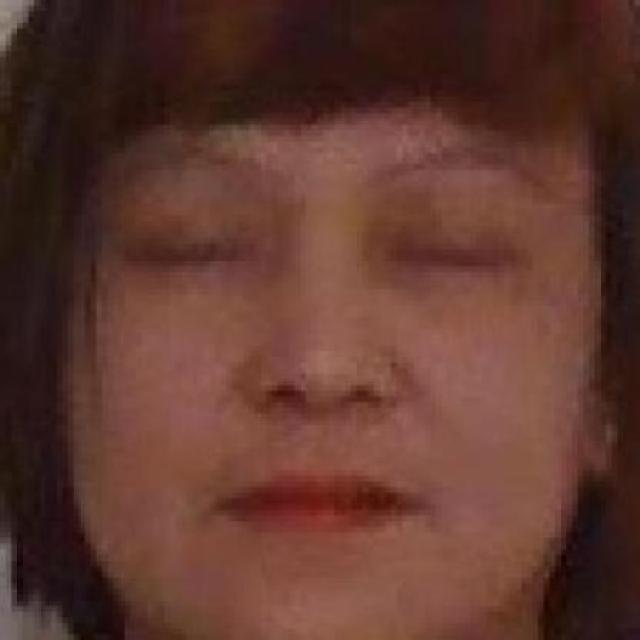drowsy: (397, 222, 517, 287), (125, 220, 240, 280)
